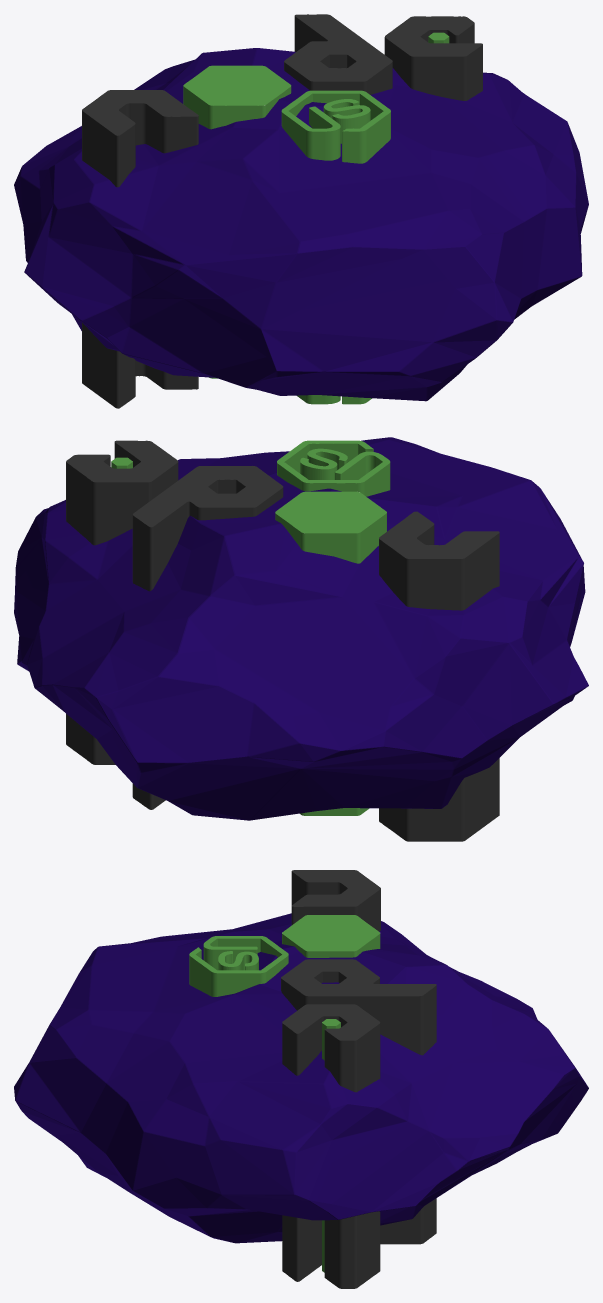
The model's file is nodejs.glb.
3 views of the same model, one above another, from view 1: azimuth 30°, elevation 25°; view 2: azimuth 150°, elevation 25°; view 3: azimuth 270°, elevation 25° (orthographic). The views are drawn at different scales.
Visible parts, largest first — view 1: Cube.007, Curve.002; view 2: Cube.007, Curve.002; view 3: Cube.007, Curve.002.
Boxes of the visible parts, x1,y1,x2,y2 form: Cube.007: [14, 48, 588, 401]; Curve.002: [82, 14, 482, 408]; Cube.007: [14, 437, 588, 820]; Curve.002: [66, 440, 499, 841]; Cube.007: [14, 913, 588, 1243]; Curve.002: [189, 870, 436, 1288].
Bounding box in the file's own units: 2 × 0.9709 × 2.04.
